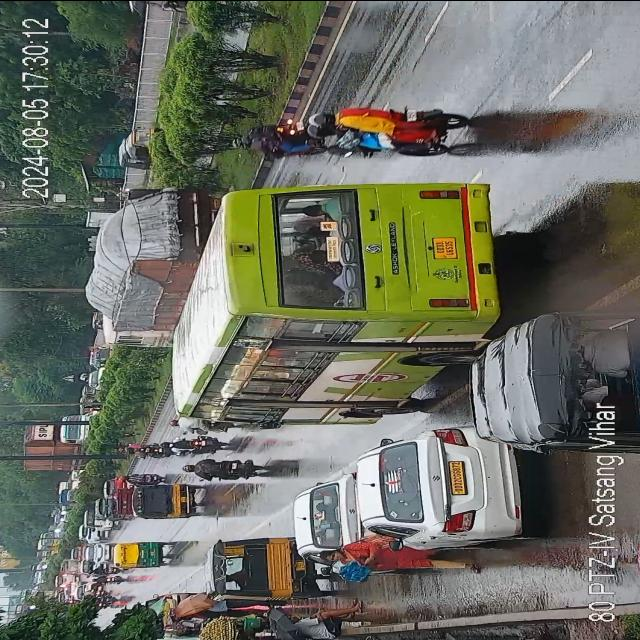2-wheelers: (299, 108, 469, 164), (120, 416, 230, 461), (232, 118, 320, 162), (182, 456, 272, 479), (86, 568, 130, 608)
auto: (132, 478, 195, 517), (125, 121, 167, 172), (114, 538, 166, 567)
bus: (155, 178, 520, 428)
car: (353, 427, 528, 551), (296, 472, 364, 558), (76, 344, 106, 418), (105, 474, 134, 506), (88, 542, 110, 562), (59, 487, 73, 507), (73, 544, 89, 560)
pedestrian: (254, 593, 361, 640), (328, 535, 444, 570), (162, 598, 276, 632)
truck: (80, 174, 244, 346), (12, 414, 98, 474)
